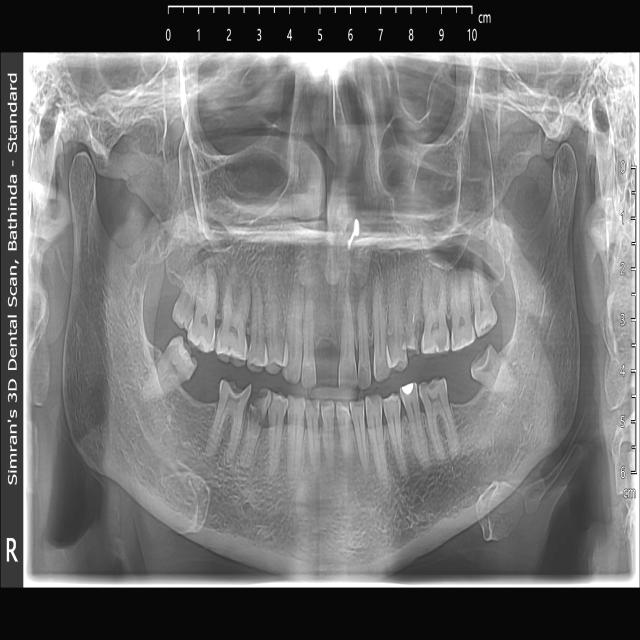Caries: (245, 389, 267, 422)
Filling: (403, 385, 415, 396)
Missing teeth: (175, 377, 215, 444), (453, 379, 488, 427), (318, 303, 337, 372)
